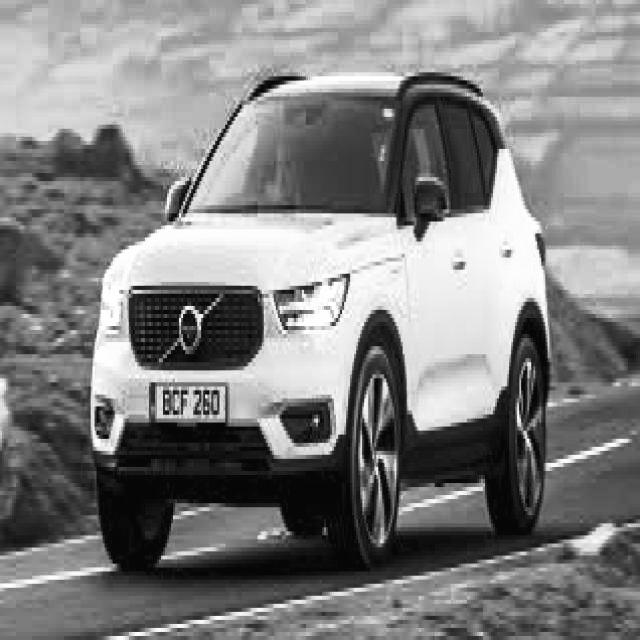Car: (77, 38, 565, 584)
